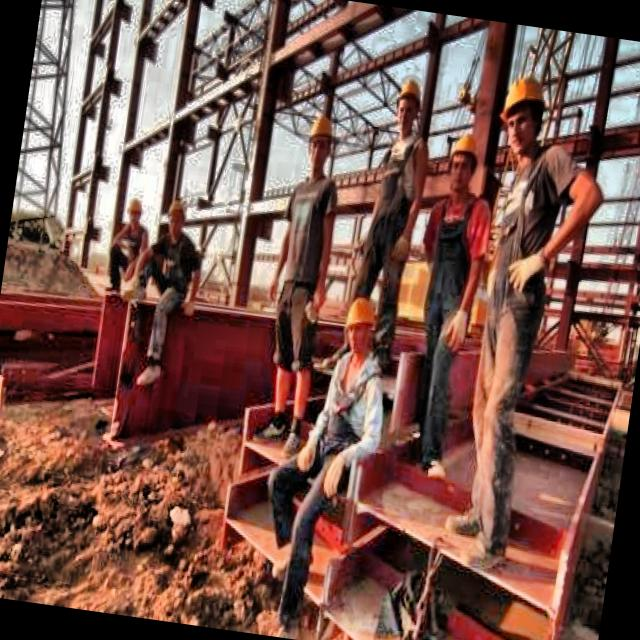helmet: (490, 62, 557, 168), (295, 105, 343, 183), (442, 126, 488, 199), (338, 292, 383, 364), (390, 70, 430, 145), (165, 195, 189, 240), (123, 194, 146, 233)
